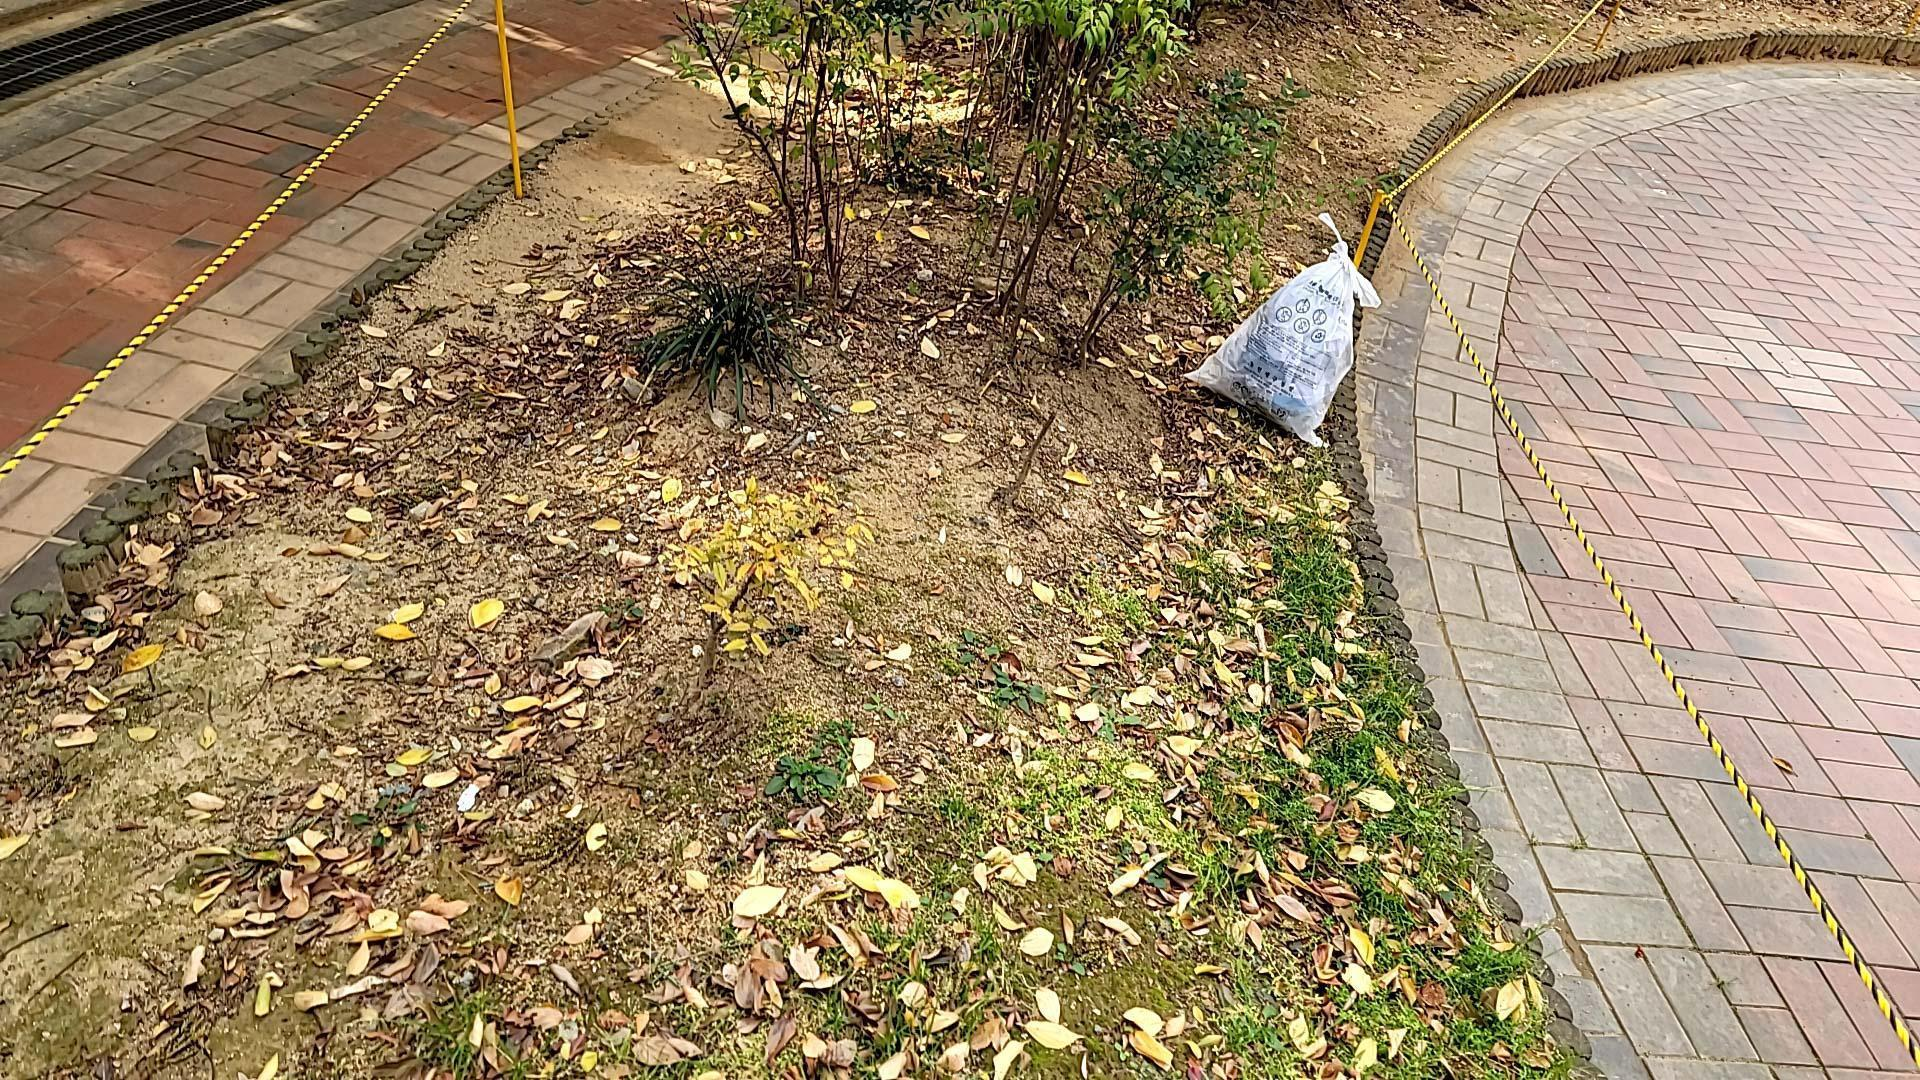white_bag: (1174, 199, 1385, 463)
